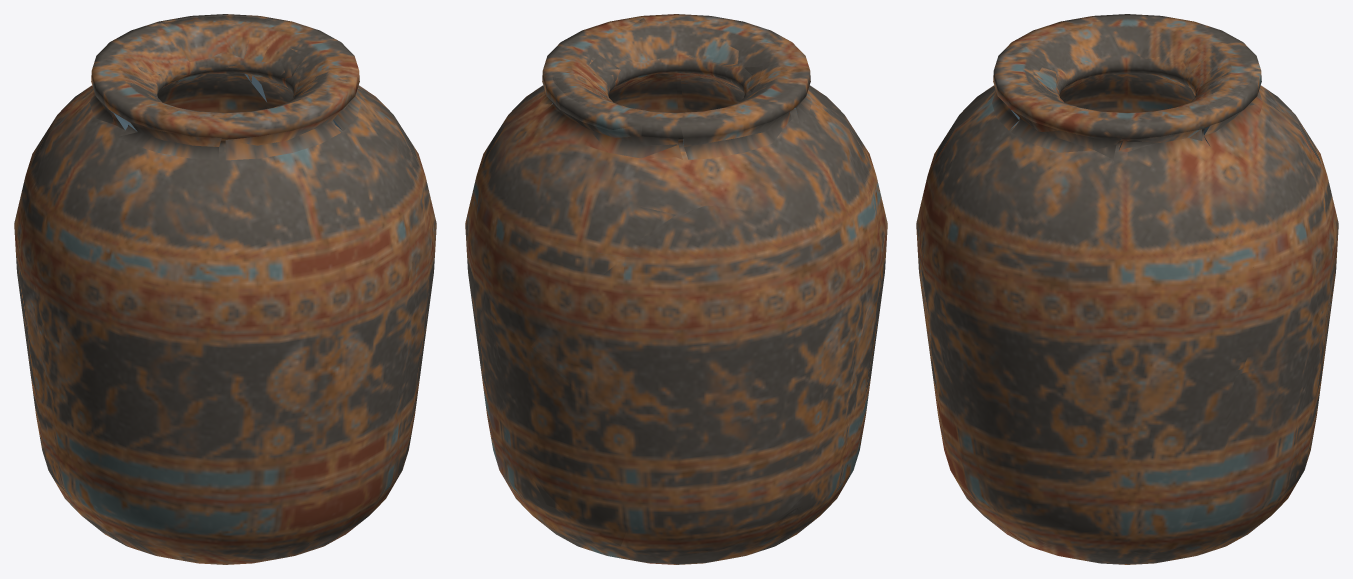
The model's file is Breakable_Ceramic_Vase_A_01.fbx.
3 renders of one model, left to right at view 1: azimuth 30°, elevation 25°; view 2: azimuth 150°, elevation 25°; view 3: azimuth 270°, elevation 25°, orthographic.
Visible parts, largest first — view 1: Breakable_Ceramic_Vase_A_01_Body, Breakable_Ceramic_Vase_A_01_cell.005, Breakable_Ceramic_Vase_A_01_cell.012, Breakable_Ceramic_Vase_A_01_cell.002, Breakable_Ceramic_Vase_A_01_cell.007, Breakable_Ceramic_Vase_A_01_cell.003, Breakable_Ceramic_Vase_A_01_cell.001; view 2: Breakable_Ceramic_Vase_A_01_Body, Breakable_Ceramic_Vase_A_01_cell.006, Breakable_Ceramic_Vase_A_01_cell.012, Breakable_Ceramic_Vase_A_01_cell.010, Breakable_Ceramic_Vase_A_01_cell.007, Breakable_Ceramic_Vase_A_01_cell.001, Breakable_Ceramic_Vase_A_01_cell.008, Breakable_Ceramic_Vase_A_01_cell.005, Breakable_Ceramic_Vase_A_01_cell.011, Breakable_Ceramic_Vase_A_01_cell.003, Breakable_Ceramic_Vase_A_01_cell; view 3: Breakable_Ceramic_Vase_A_01_Body, Breakable_Ceramic_Vase_A_01_cell.004, Breakable_Ceramic_Vase_A_01_cell.012, Breakable_Ceramic_Vase_A_01_cell.008, Breakable_Ceramic_Vase_A_01_cell.007, Breakable_Ceramic_Vase_A_01_cell.003, Breakable_Ceramic_Vase_A_01_cell.001, Breakable_Ceramic_Vase_A_01_cell.005, Breakable_Ceramic_Vase_A_01_cell.010, Breakable_Ceramic_Vase_A_01_cell.009.
Boxes of the visible parts, box(x1,y1,x2,y2) form: Breakable_Ceramic_Vase_A_01_Body: box(14, 14, 436, 564); Breakable_Ceramic_Vase_A_01_cell.005: box(225, 110, 340, 160); Breakable_Ceramic_Vase_A_01_cell.012: box(158, 16, 270, 101); Breakable_Ceramic_Vase_A_01_cell.002: box(110, 110, 221, 159); Breakable_Ceramic_Vase_A_01_cell.007: box(63, 56, 162, 130); Breakable_Ceramic_Vase_A_01_cell.003: box(258, 42, 307, 104); Breakable_Ceramic_Vase_A_01_cell.001: box(293, 65, 391, 131); Breakable_Ceramic_Vase_A_01_Body: box(468, 14, 887, 563); Breakable_Ceramic_Vase_A_01_cell.006: box(531, 205, 781, 469); Breakable_Ceramic_Vase_A_01_cell.012: box(469, 77, 682, 341); Breakable_Ceramic_Vase_A_01_cell.010: box(529, 351, 819, 555); Breakable_Ceramic_Vase_A_01_cell.007: box(681, 66, 791, 197); Breakable_Ceramic_Vase_A_01_cell.001: box(608, 18, 678, 112); Breakable_Ceramic_Vase_A_01_cell.008: box(473, 308, 536, 516); Breakable_Ceramic_Vase_A_01_cell.005: box(680, 45, 744, 112); Breakable_Ceramic_Vase_A_01_cell.011: box(527, 470, 638, 561); Breakable_Ceramic_Vase_A_01_cell.003: box(465, 53, 620, 303); Breakable_Ceramic_Vase_A_01_cell: box(634, 506, 802, 564); Breakable_Ceramic_Vase_A_01_Body: box(916, 14, 1338, 564); Breakable_Ceramic_Vase_A_01_cell.004: box(988, 361, 1228, 563); Breakable_Ceramic_Vase_A_01_cell.012: box(1191, 69, 1337, 365); Breakable_Ceramic_Vase_A_01_cell.008: box(1191, 352, 1301, 522); Breakable_Ceramic_Vase_A_01_cell.007: box(1059, 37, 1205, 112); Breakable_Ceramic_Vase_A_01_cell.003: box(1118, 129, 1253, 372); Breakable_Ceramic_Vase_A_01_cell.001: box(1011, 100, 1122, 293); Breakable_Ceramic_Vase_A_01_cell.005: box(992, 67, 1060, 130); Breakable_Ceramic_Vase_A_01_cell.010: box(1301, 312, 1330, 460); Breakable_Ceramic_Vase_A_01_cell.009: box(1127, 534, 1247, 564).
Size of the model in its own units: 0.1892 by 0.2257 by 0.1892.
